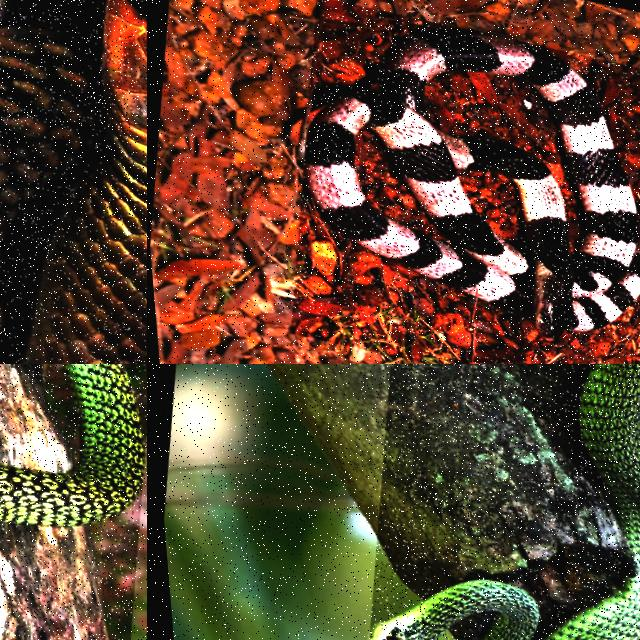Bungarus candidus: (304, 32, 639, 336)
Chrysopelea ornata: (540, 364, 639, 639), (0, 364, 143, 526)
Naja kaouthia: (0, 0, 146, 363)
snake: (304, 32, 639, 336), (0, 0, 146, 363), (540, 364, 639, 639), (0, 364, 143, 526)
